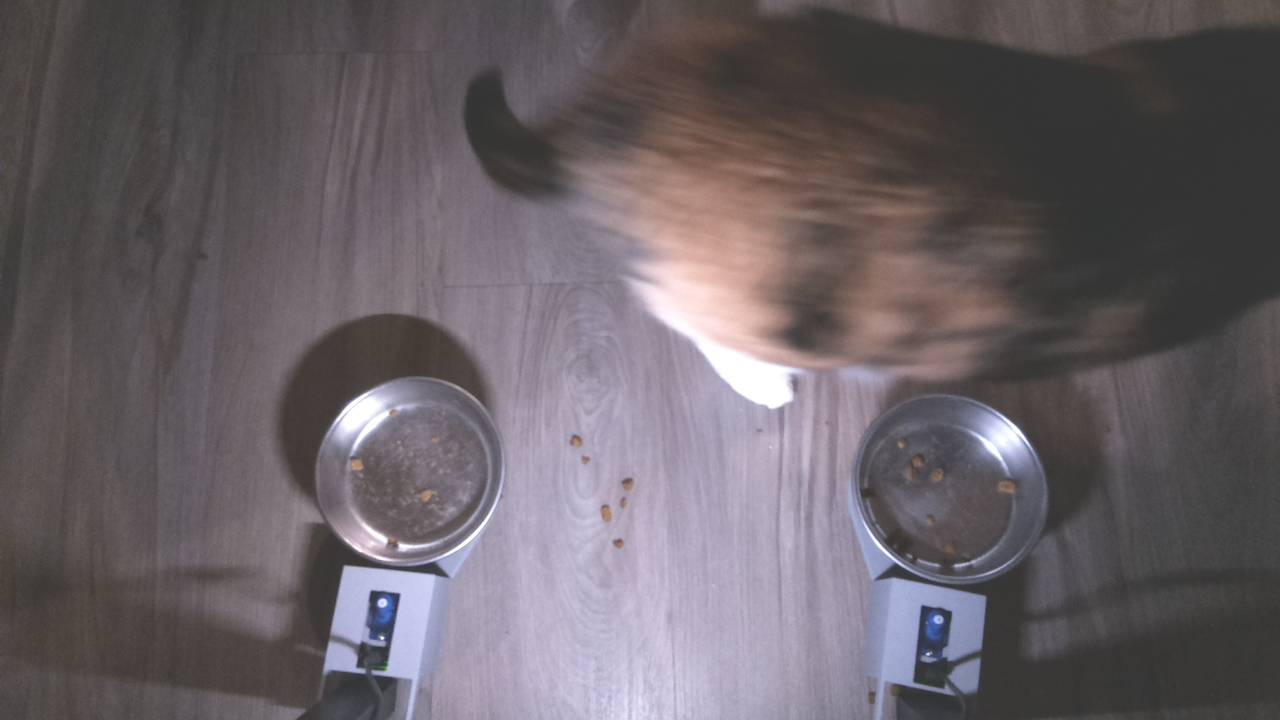open_bowl: (850, 390, 1051, 584), (314, 373, 509, 571)
